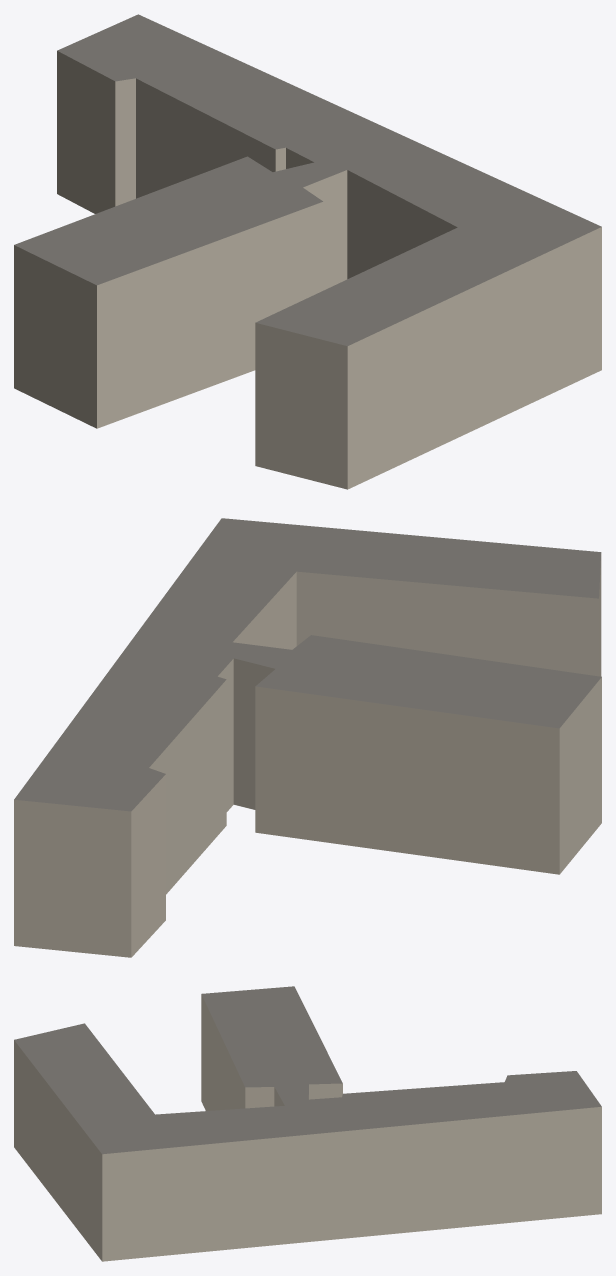
3 views of the same model, one above another, from view 1: azimuth 30°, elevation 25°; view 2: azimuth 150°, elevation 25°; view 3: azimuth 270°, elevation 25° (orthographic). The views are drawn at different scales.
Parts seen in each view (by area): view 1: HP-w1512359816; view 2: HP-w1512359816; view 3: HP-w1512359816.
Boxes of the visible parts, x1=… form: HP-w1512359816: x1=14, y1=14, x2=601, y2=489; HP-w1512359816: x1=14, y1=518, x2=601, y2=957; HP-w1512359816: x1=14, y1=986, x2=601, y2=1261.
Size of the model in its own units: 60.38 by 18 by 89.31.
